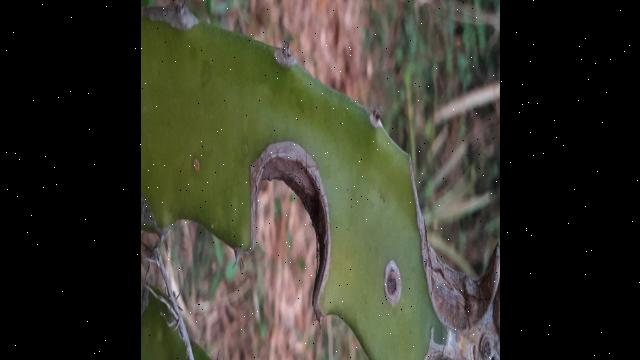stemcanker: (380, 257, 406, 307)
